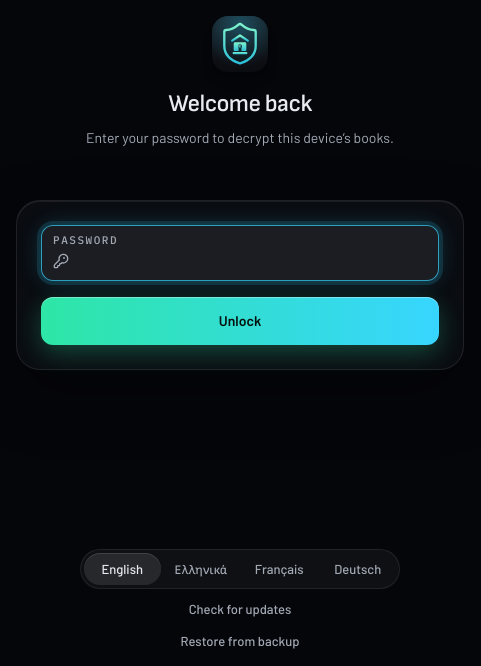
Test: UnlockScreen submit › generic unlock failure shows unlock.unlockFailed banner
Type "secret" into the password field labelled "Password" at (240, 261), box [53,249,427,273]
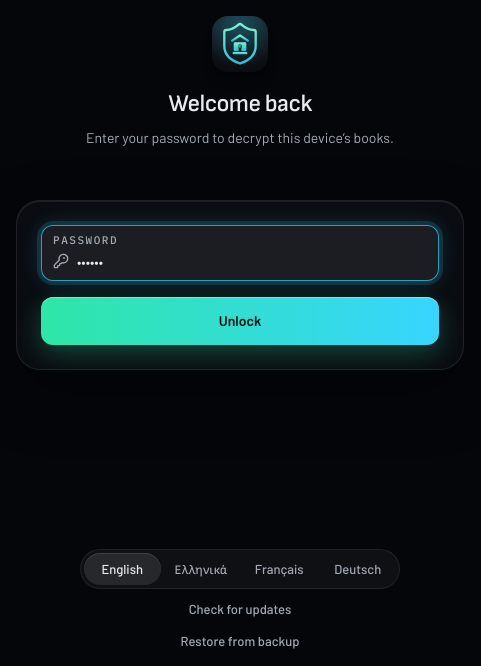
Click the button "Unlock" at (240, 321), box [41,297,439,345]
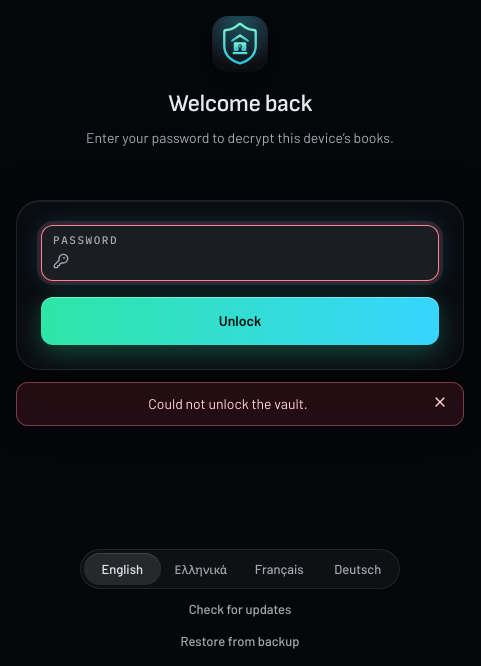
Check: the text "Could not unlock the vault." is shown, box [148,395,308,412]
